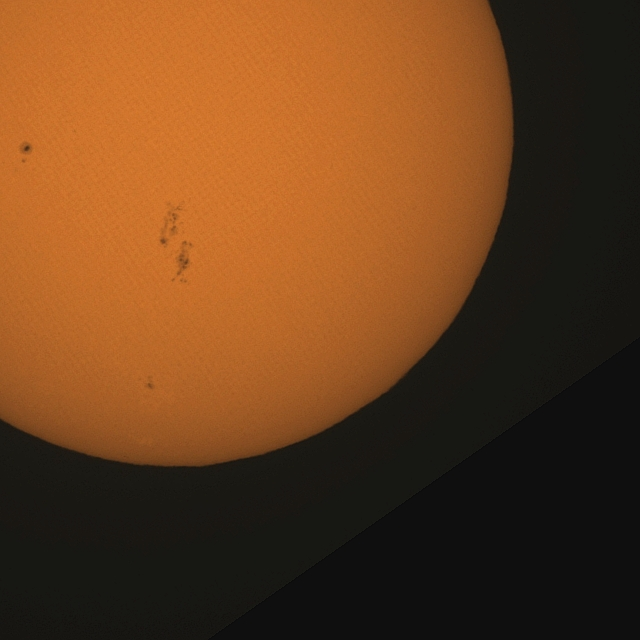sunspot: (158, 230, 194, 278), (158, 203, 188, 254), (170, 242, 193, 287), (19, 140, 32, 164), (144, 374, 155, 391)
